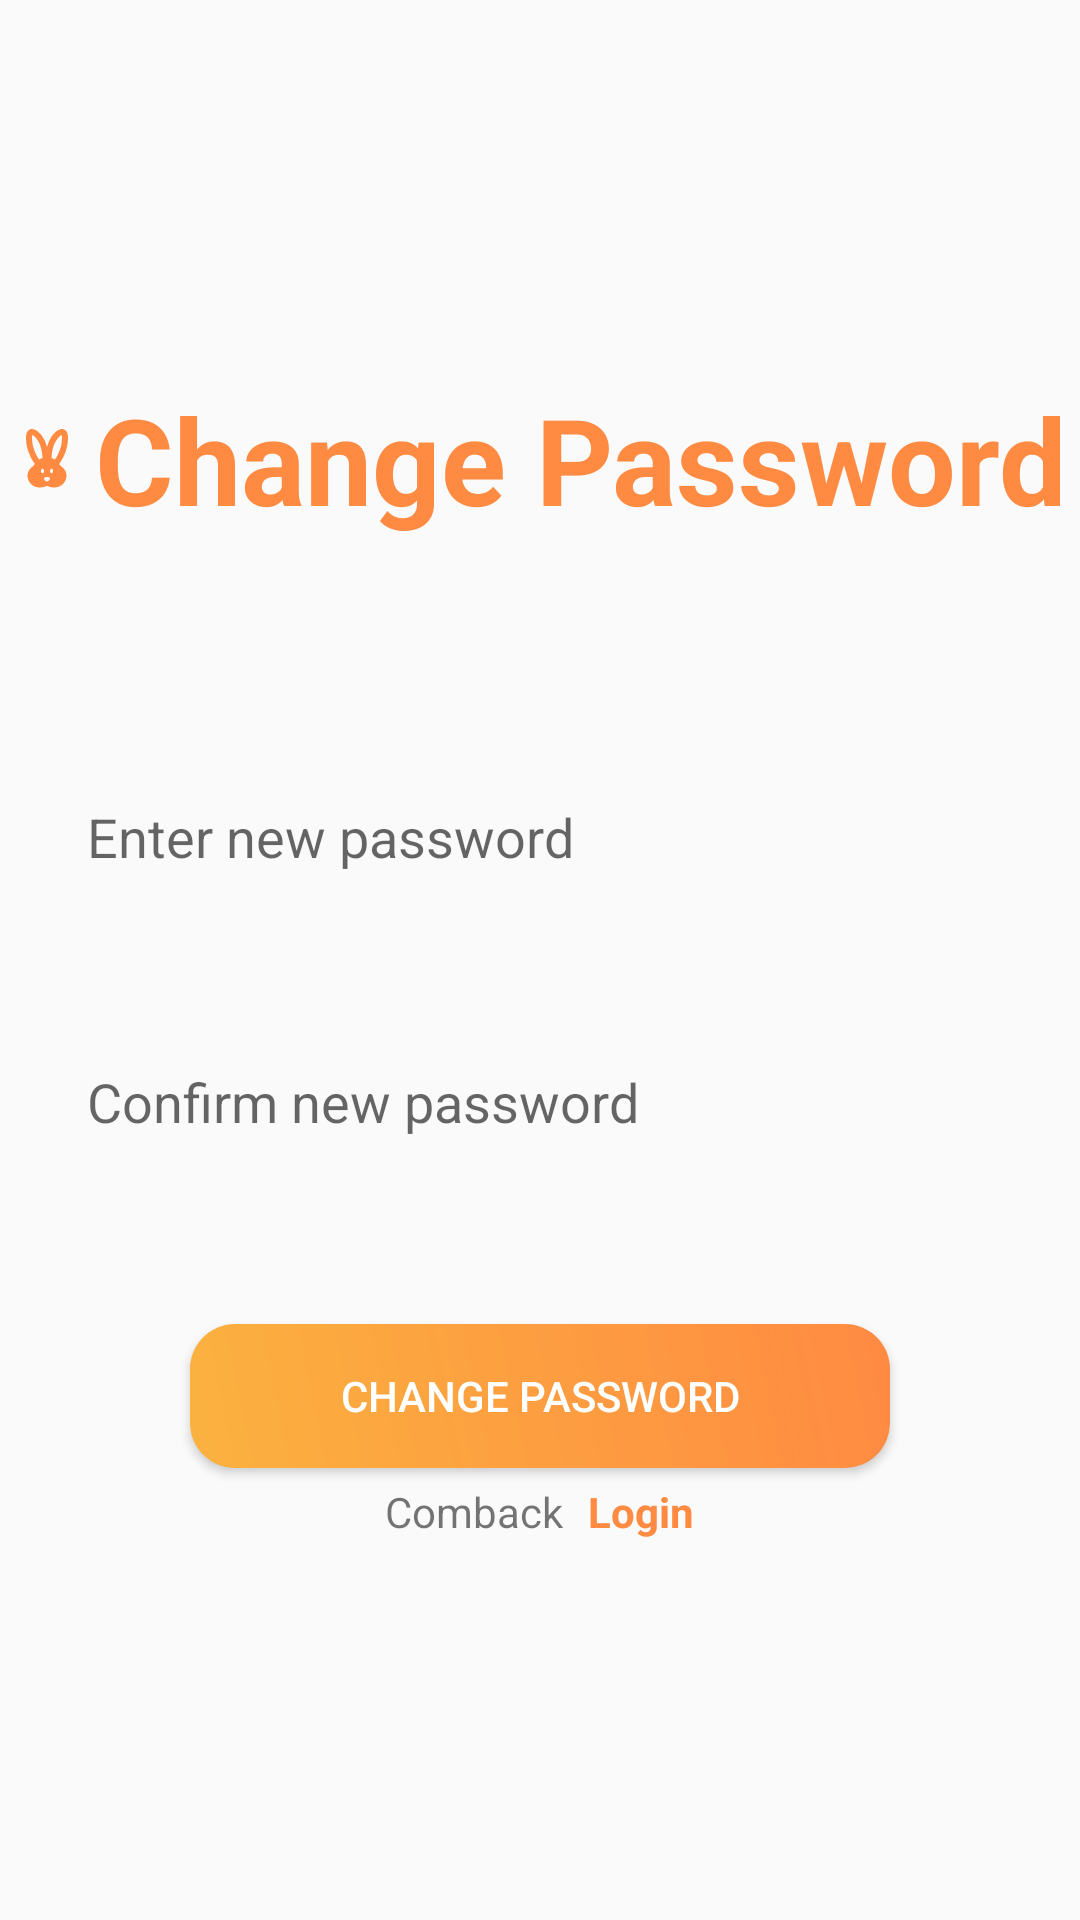

Where icons sit on this 1080*1920 app screen, as (x1=x1, y1=y1, x2=x2, y2=y2):
cruelty free: (x1=26, y1=429, x2=68, y2=488)
